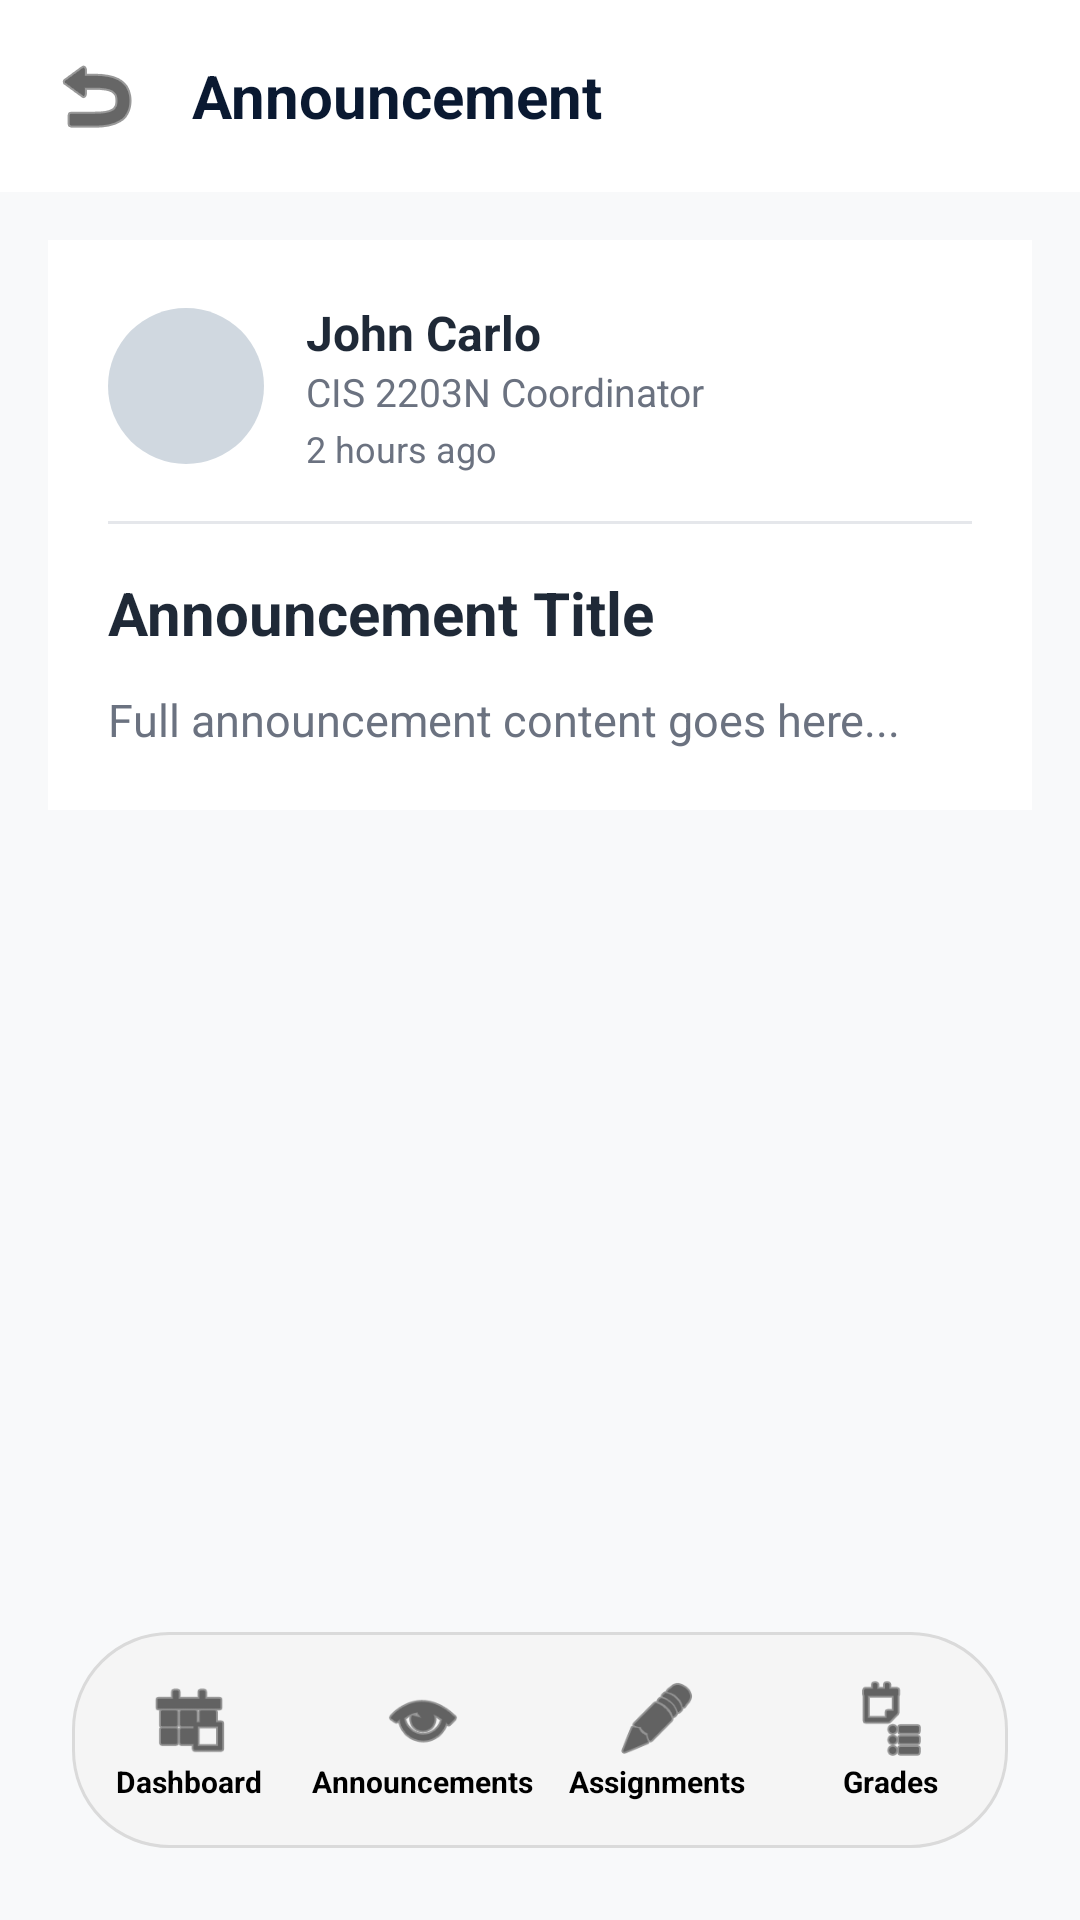

Icons on this 1080×1920 Android screen, each with its box as rect(x1, y1, x2, y2):
agenda: rect(862, 1681, 921, 1756)
Back: rect(63, 65, 132, 128)
edit: rect(621, 1683, 692, 1754)
today: rect(155, 1688, 224, 1752)
view: rect(389, 1700, 457, 1743)
